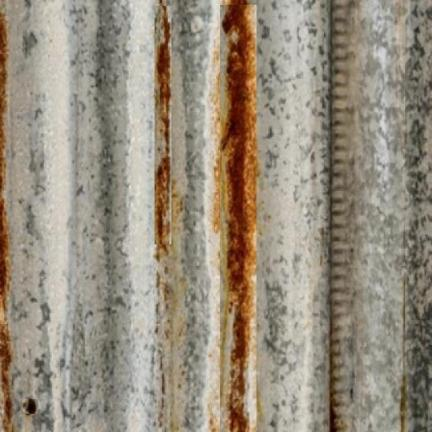besi_tidak_karat: (0, 0, 173, 431), (331, 0, 431, 431), (258, 0, 329, 431), (168, 0, 220, 431)
karat: (220, 0, 256, 431), (0, 11, 11, 431), (155, 0, 171, 245)
